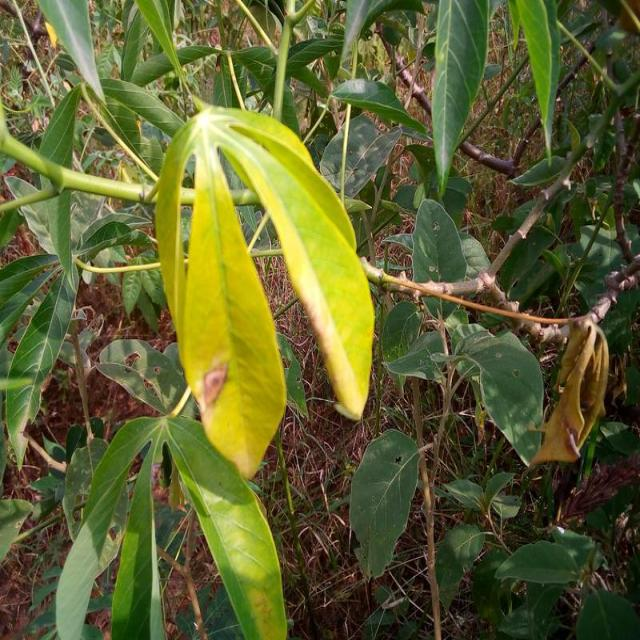cassava leaf: (154, 97, 375, 478)
